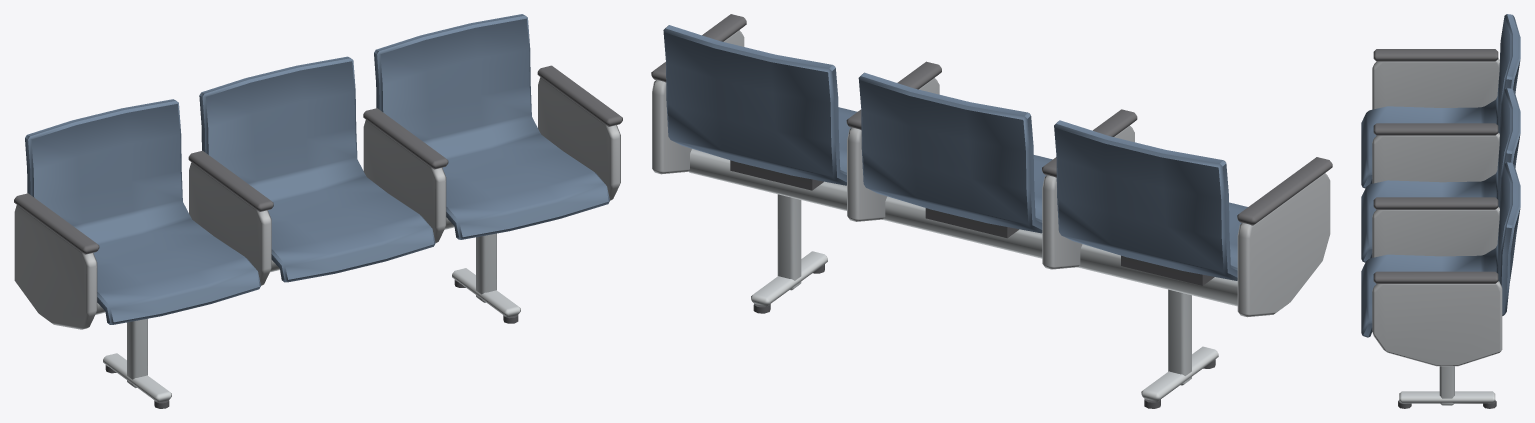
File: beam_seat.glb
3 views of the same model, side by side, from view 1: azimuth 30°, elevation 25°; view 2: azimuth 150°, elevation 25°; view 3: azimuth 270°, elevation 25° (orthographic). The views are drawn at different scales.
Parts seen in each view (by area): view 1: terminal_beam_seat; view 2: terminal_beam_seat; view 3: terminal_beam_seat.
Part boxes in pixels (box(x1,y1,x2,y2)): terminal_beam_seat: box(14, 14, 622, 408); terminal_beam_seat: box(651, 14, 1332, 408); terminal_beam_seat: box(1361, 14, 1520, 408).
Size of the model in its own units: 1.92 by 0.8294 by 0.5625.
